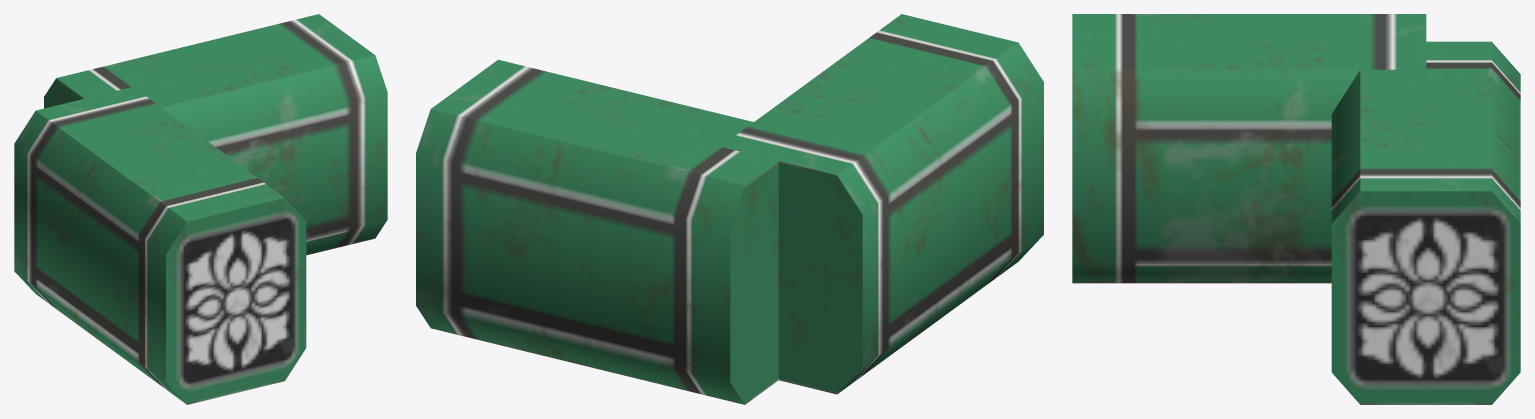
File: SM_Lintel03e.fbx
3 renders of one model, left to right at view 1: azimuth 30°, elevation 25°; view 2: azimuth 150°, elevation 25°; view 3: azimuth 270°, elevation 25°, orthographic. The views are drawn at different scales.
Parts seen in each view (by area): view 1: SM_Lintel03e; view 2: SM_Lintel03e; view 3: SM_Lintel03e.
Part boxes in pixels (x1,y1,x2,y2): SM_Lintel03e: (14,14,387,404); SM_Lintel03e: (416,14,1043,404); SM_Lintel03e: (1072,14,1520,404).
Bounding box in the file's own units: 38 × 38 × 20.
Materials: 1 (1 with a texture image).
